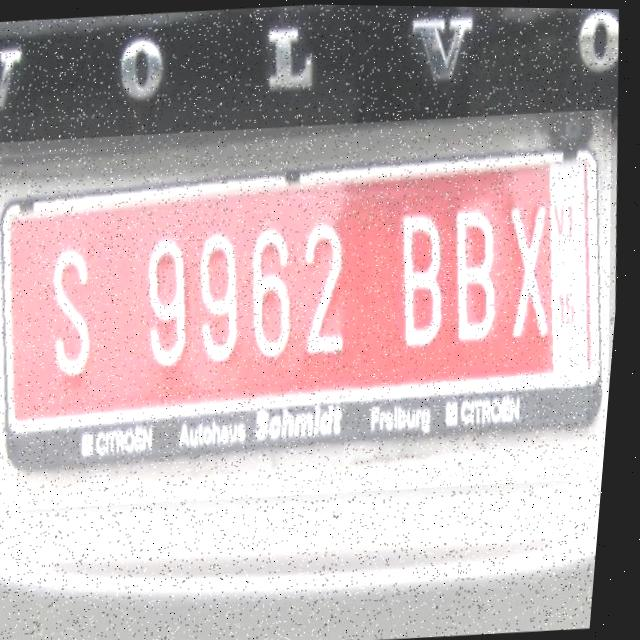LicensePlate: (0, 99, 634, 517)
